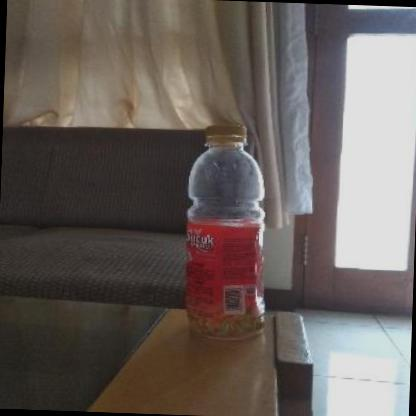plastic_bottles: (176, 118, 277, 346)
